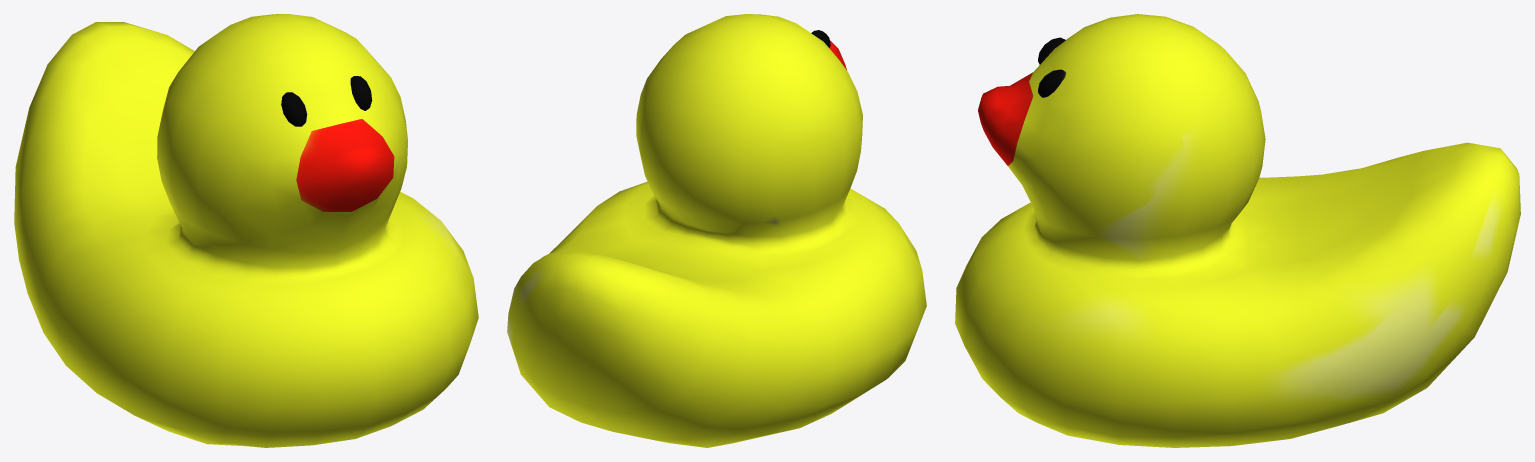
Rendered from duckyyy.fbx.
3 renders of one model, left to right at view 1: azimuth 30°, elevation 25°; view 2: azimuth 150°, elevation 25°; view 3: azimuth 270°, elevation 25°, orthographic. The views are drawn at different scales.
Visible parts, largest first — view 1: SM_rubber_duck; view 2: SM_rubber_duck; view 3: SM_rubber_duck.
Boxes of the visible parts, bbox=[...] form: SM_rubber_duck: bbox=[14, 14, 478, 447]; SM_rubber_duck: bbox=[507, 14, 926, 447]; SM_rubber_duck: bbox=[955, 14, 1520, 447].
Bounding box in the file's own units: 1093 × 1093 × 1517.
1 material, 1 textured.
